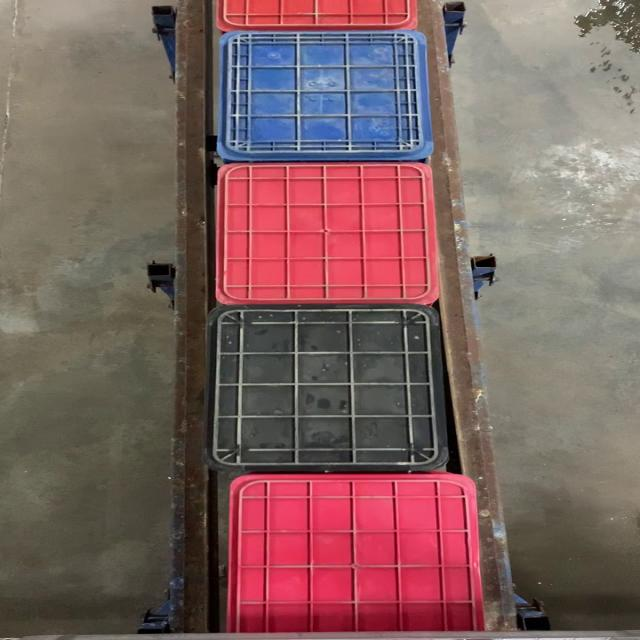Box: (201, 305, 453, 471), (212, 161, 446, 304), (215, 30, 434, 160)
